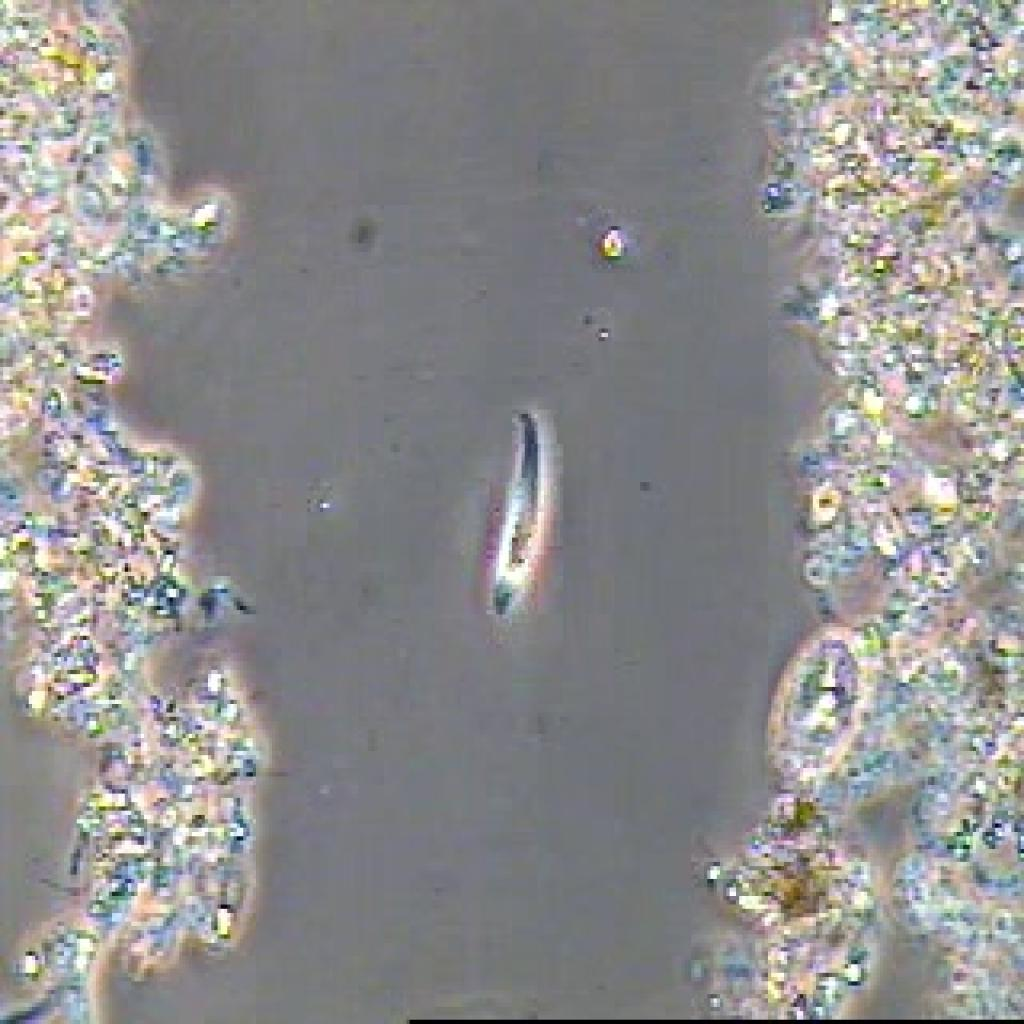Pristina: (468, 384, 566, 636)
